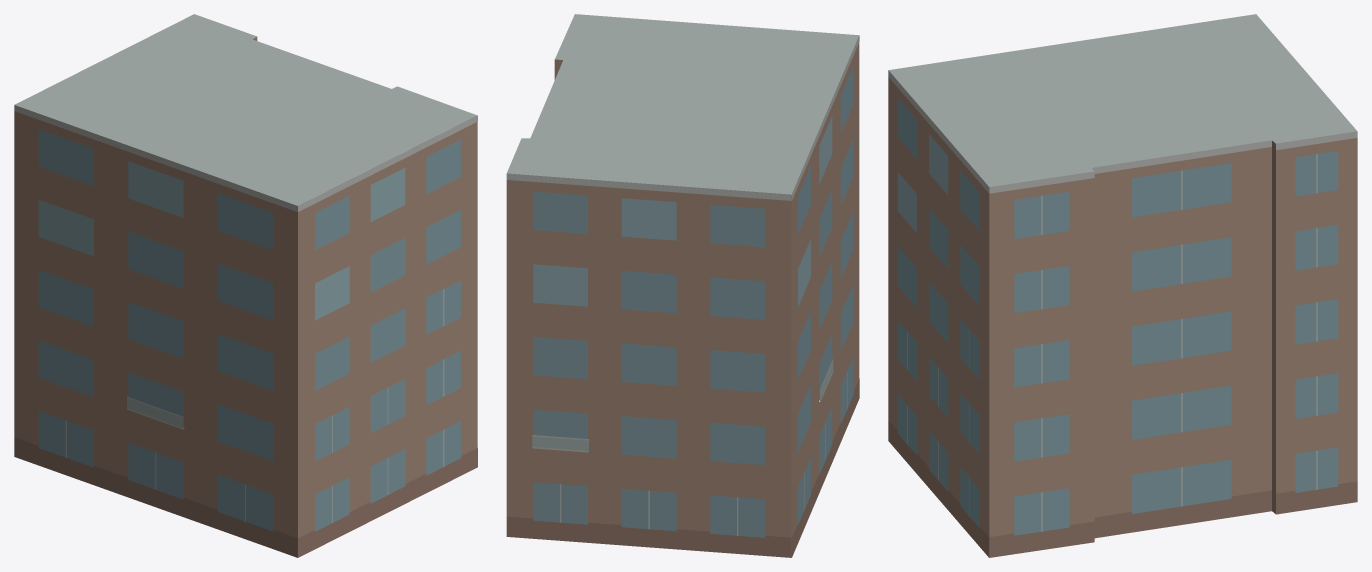
Rendered from survey-upis-32921251.glb.
The picture shows the model from 3 angles, left to right: view 1: azimuth 30°, elevation 25°; view 2: azimuth 150°, elevation 25°; view 3: azimuth 270°, elevation 25°; orthographic projection. The views are drawn at different scales.
Visible parts, largest first — view 1: survey-upis-32921251.tmp; view 2: survey-upis-32921251.tmp; view 3: survey-upis-32921251.tmp.
Boxes of the visible parts, x1,y1,x2,y2 form: survey-upis-32921251.tmp: (14,14,477,557); survey-upis-32921251.tmp: (506,14,859,557); survey-upis-32921251.tmp: (888,14,1357,557).
Bounding box in the file's own units: 13.93 × 13.9 × 15.95.
